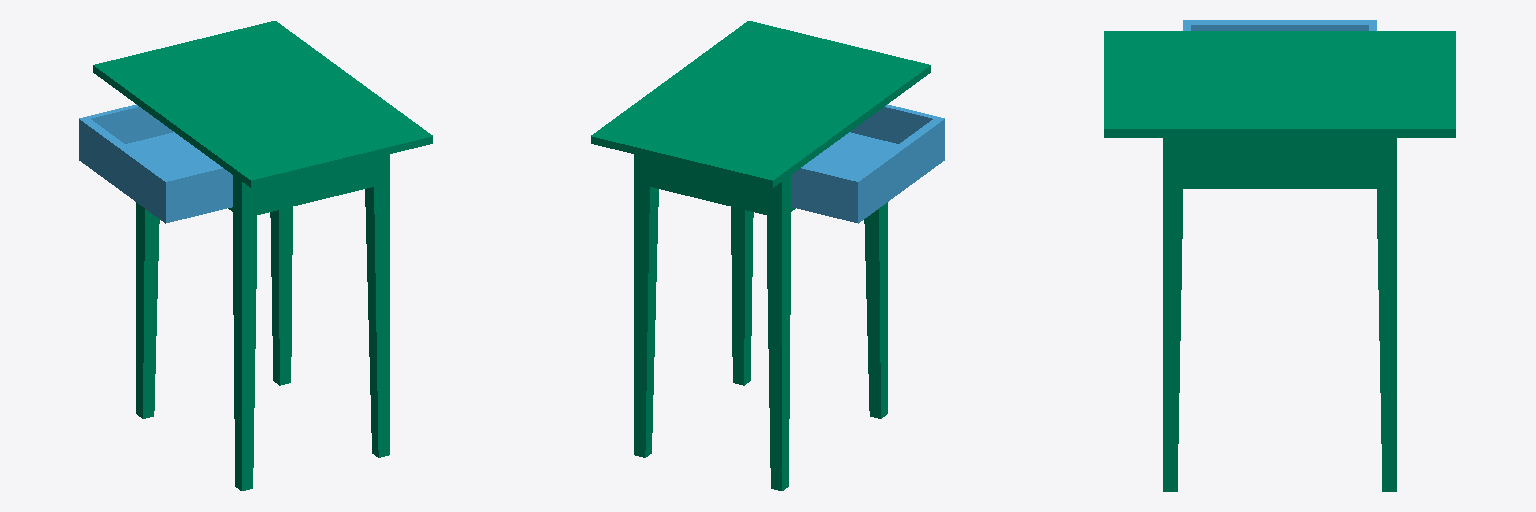
The robot description file, URDF, robot "partnet_31c090b23f52bb61208c8c852ee795bc":
<?xml version="1.0" ?>
<robot name="partnet_31c090b23f52bb61208c8c852ee795bc">
	<link name="base"/>
	<link name="link_0">
		<visual name="drawer_front-37">
			<origin xyz="0 0 0"/>
			<geometry>
				<mesh filename="textured_objs/original-3.obj"/>
			</geometry>
		</visual>
		<visual name="drawer_side-38">
			<origin xyz="0 0 0"/>
			<geometry>
				<mesh filename="textured_objs/original-4.obj"/>
			</geometry>
		</visual>
		<visual name="drawer_side-39">
			<origin xyz="0 0 0"/>
			<geometry>
				<mesh filename="textured_objs/original-6.obj"/>
			</geometry>
		</visual>
		<visual name="drawer_back-40">
			<origin xyz="0 0 0"/>
			<geometry>
				<mesh filename="textured_objs/original-5.obj"/>
			</geometry>
		</visual>
		<visual name="drawer_bottom-41">
			<origin xyz="0 0 0"/>
			<geometry>
				<mesh filename="textured_objs/original-2.obj"/>
			</geometry>
		</visual>
		<collision>
			<origin xyz="0 0 0"/>
			<geometry>
				<mesh filename="textured_objs/original-3.obj"/>
			</geometry>
		</collision>
		<collision>
			<origin xyz="0 0 0"/>
			<geometry>
				<mesh filename="textured_objs/original-4.obj"/>
			</geometry>
		</collision>
		<collision>
			<origin xyz="0 0 0"/>
			<geometry>
				<mesh filename="textured_objs/original-6.obj"/>
			</geometry>
		</collision>
		<collision>
			<origin xyz="0 0 0"/>
			<geometry>
				<mesh filename="textured_objs/original-5.obj"/>
			</geometry>
		</collision>
		<collision>
			<origin xyz="0 0 0"/>
			<geometry>
				<mesh filename="textured_objs/original-2.obj"/>
			</geometry>
		</collision>
	</link>
	<joint name="joint_0" type="prismatic">
		<origin xyz="0 0 0"/>
		<axis xyz="0 0 1"/>
		<child link="link_0"/>
		<parent link="link_1"/>
		<limit lower="-0.20399999999999996" upper="0.20000000000000018"/>
	</joint>
	<link name="link_1">
		<visual name="board-43">
			<origin xyz="0 0 0"/>
			<geometry>
				<mesh filename="textured_objs/original-8.obj"/>
			</geometry>
		</visual>
		<visual name="board-43">
			<origin xyz="0 0 0"/>
			<geometry>
				<mesh filename="textured_objs/original-11.obj"/>
			</geometry>
		</visual>
		<visual name="board-43">
			<origin xyz="0 0 0"/>
			<geometry>
				<mesh filename="textured_objs/original-12.obj"/>
			</geometry>
		</visual>
		<visual name="board-43">
			<origin xyz="0 0 0"/>
			<geometry>
				<mesh filename="textured_objs/original-14.obj"/>
			</geometry>
		</visual>
		<visual name="leg-18">
			<origin xyz="0 0 0"/>
			<geometry>
				<mesh filename="textured_objs/original-17.obj"/>
			</geometry>
		</visual>
		<visual name="leg-19">
			<origin xyz="0 0 0"/>
			<geometry>
				<mesh filename="textured_objs/original-21.obj"/>
			</geometry>
		</visual>
		<visual name="leg-20">
			<origin xyz="0 0 0"/>
			<geometry>
				<mesh filename="textured_objs/original-22.obj"/>
			</geometry>
		</visual>
		<visual name="leg-21">
			<origin xyz="0 0 0"/>
			<geometry>
				<mesh filename="textured_objs/original-24.obj"/>
			</geometry>
		</visual>
		<visual name="vertical_side_panel-23">
			<origin xyz="0 0 0"/>
			<geometry>
				<mesh filename="textured_objs/original-20.obj"/>
			</geometry>
		</visual>
		<visual name="vertical_side_panel-24">
			<origin xyz="0 0 0"/>
			<geometry>
				<mesh filename="textured_objs/original-23.obj"/>
			</geometry>
		</visual>
		<visual name="back_panel-27">
			<origin xyz="0 0 0"/>
			<geometry>
				<mesh filename="textured_objs/original-18.obj"/>
			</geometry>
		</visual>
		<visual name="drawer_rails-31">
			<origin xyz="0 0 0"/>
			<geometry>
				<mesh filename="textured_objs/original-13.obj"/>
			</geometry>
		</visual>
		<visual name="drawer_rails-32">
			<origin xyz="0 0 0"/>
			<geometry>
				<mesh filename="textured_objs/original-10.obj"/>
			</geometry>
		</visual>
		<visual name="drawer_rails-33">
			<origin xyz="0 0 0"/>
			<geometry>
				<mesh filename="textured_objs/original-15.obj"/>
			</geometry>
		</visual>
		<visual name="drawer_rails-35">
			<origin xyz="0 0 0"/>
			<geometry>
				<mesh filename="textured_objs/original-16.obj"/>
			</geometry>
		</visual>
		<visual name="drawer_rails-36">
			<origin xyz="0 0 0"/>
			<geometry>
				<mesh filename="textured_objs/original-19.obj"/>
			</geometry>
		</visual>
		<collision>
			<origin xyz="0 0 0"/>
			<geometry>
				<mesh filename="textured_objs/original-8.obj"/>
			</geometry>
		</collision>
		<collision>
			<origin xyz="0 0 0"/>
			<geometry>
				<mesh filename="textured_objs/original-11.obj"/>
			</geometry>
		</collision>
		<collision>
			<origin xyz="0 0 0"/>
			<geometry>
				<mesh filename="textured_objs/original-12.obj"/>
			</geometry>
		</collision>
		<collision>
			<origin xyz="0 0 0"/>
			<geometry>
				<mesh filename="textured_objs/original-14.obj"/>
			</geometry>
		</collision>
		<collision>
			<origin xyz="0 0 0"/>
			<geometry>
				<mesh filename="textured_objs/original-17.obj"/>
			</geometry>
		</collision>
		<collision>
			<origin xyz="0 0 0"/>
			<geometry>
				<mesh filename="textured_objs/original-21.obj"/>
			</geometry>
		</collision>
		<collision>
			<origin xyz="0 0 0"/>
			<geometry>
				<mesh filename="textured_objs/original-22.obj"/>
			</geometry>
		</collision>
		<collision>
			<origin xyz="0 0 0"/>
			<geometry>
				<mesh filename="textured_objs/original-24.obj"/>
			</geometry>
		</collision>
		<collision>
			<origin xyz="0 0 0"/>
			<geometry>
				<mesh filename="textured_objs/original-20.obj"/>
			</geometry>
		</collision>
		<collision>
			<origin xyz="0 0 0"/>
			<geometry>
				<mesh filename="textured_objs/original-23.obj"/>
			</geometry>
		</collision>
		<collision>
			<origin xyz="0 0 0"/>
			<geometry>
				<mesh filename="textured_objs/original-18.obj"/>
			</geometry>
		</collision>
		<collision>
			<origin xyz="0 0 0"/>
			<geometry>
				<mesh filename="textured_objs/original-13.obj"/>
			</geometry>
		</collision>
		<collision>
			<origin xyz="0 0 0"/>
			<geometry>
				<mesh filename="textured_objs/original-10.obj"/>
			</geometry>
		</collision>
		<collision>
			<origin xyz="0 0 0"/>
			<geometry>
				<mesh filename="textured_objs/original-15.obj"/>
			</geometry>
		</collision>
		<collision>
			<origin xyz="0 0 0"/>
			<geometry>
				<mesh filename="textured_objs/original-16.obj"/>
			</geometry>
		</collision>
		<collision>
			<origin xyz="0 0 0"/>
			<geometry>
				<mesh filename="textured_objs/original-19.obj"/>
			</geometry>
		</collision>
	</link>
	<joint name="joint_1" type="fixed">
		<origin rpy="1.570796326794897 0 -1.570796326794897" xyz="0 0 0"/>
		<child link="link_1"/>
		<parent link="base"/>
	</joint>
</robot>

--- Facts derived from the render (not from the file) ---
Views: 3 orthographic renders of the robot side by side, from view 1: azimuth 30°, elevation 25°; view 2: azimuth 150°, elevation 25°; view 3: azimuth 270°, elevation 25°.
Model partnet_31c090b23f52bb61208c8c852ee795bc with 3 links and 2 joints (1 prismatic, 1 fixed), rooted at base, posed every joint at zero.
Links seen in each view (by area): view 1: link_1, link_0; view 2: link_1, link_0; view 3: link_1, link_0.
Boxes of the visible links, box(x1,y1,x2,y2) form: link_1: box(93, 21, 432, 490); link_0: box(79, 104, 232, 223); link_1: box(591, 21, 930, 490); link_0: box(791, 104, 944, 223); link_1: box(1104, 31, 1455, 491); link_0: box(1183, 20, 1376, 30).
Bounding box of the posed robot: 0.7991 × 0.9412 × 1.1 m (x, y, z).
Meshes: 21 distinct files referenced, 21 mesh visuals loaded (21 OBJ).
